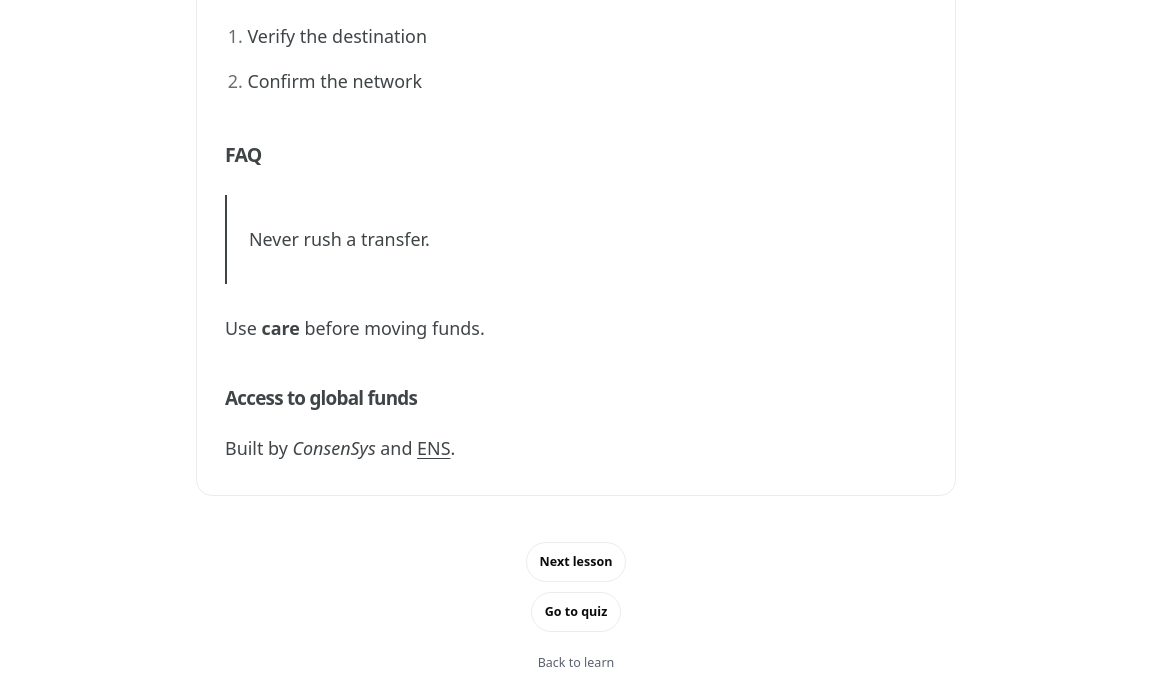
LearnPage › marks a lesson as done from the detail view and keeps the done state after returning to the hub
(page scrolled)
Click the link "Back to learn": [576, 662] box [538,654,614,671]
(page scrolled)
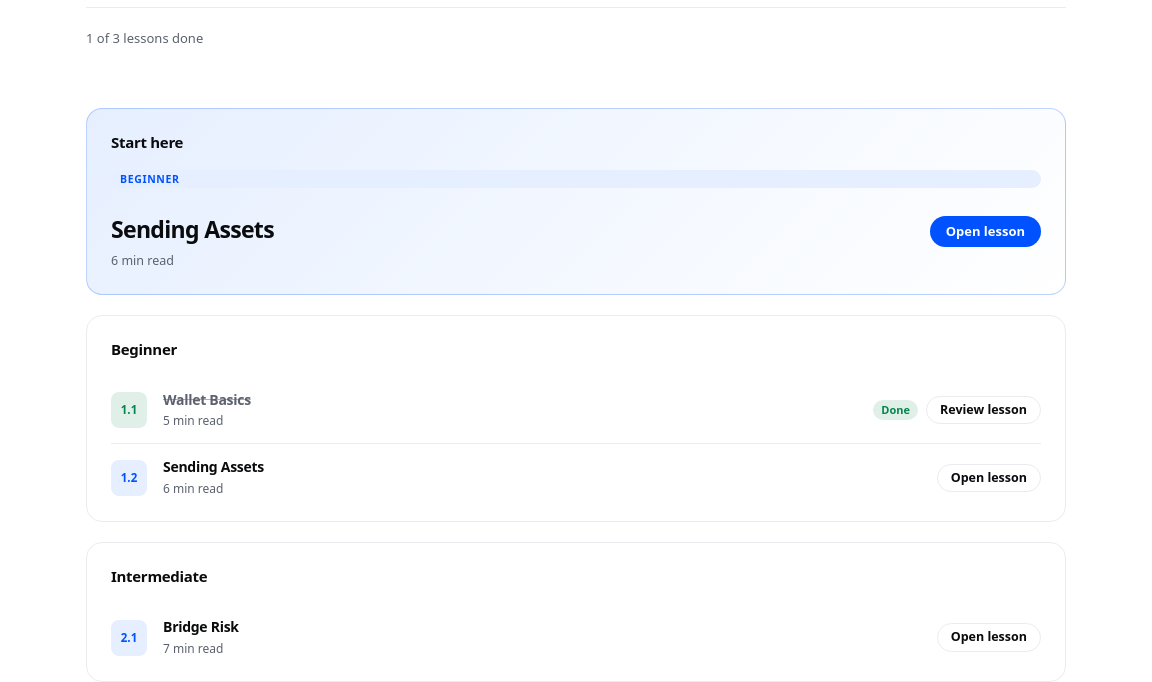
Expected: the heading "Beginner" is shown, [111,340,177,359]
Expected: the text "Done" is shown once, [873,400,918,420]
